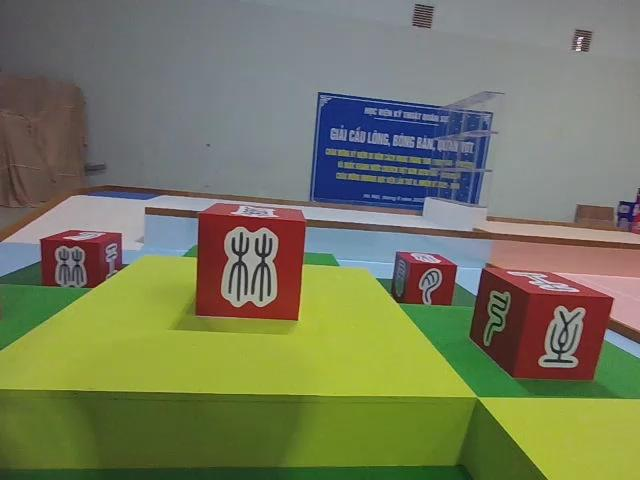R2 Fake: (468, 265, 617, 383), (193, 200, 308, 323), (38, 226, 124, 291), (389, 249, 460, 309)
